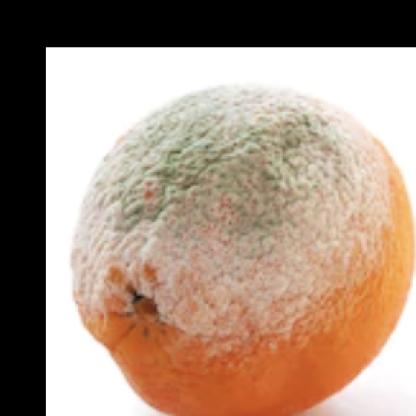rotten: (71, 84, 416, 416)
